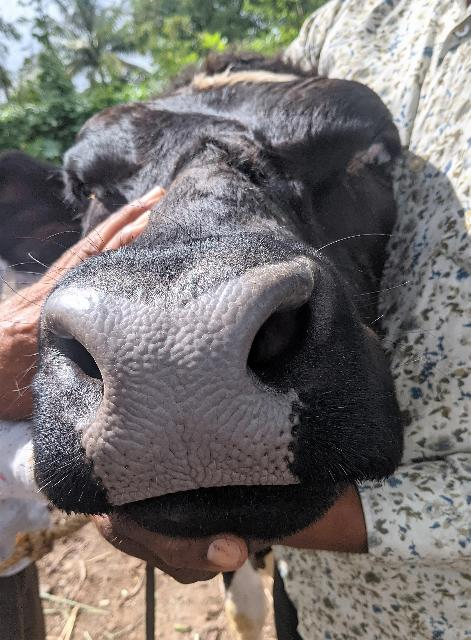Muzzle: (92, 307, 256, 479)
